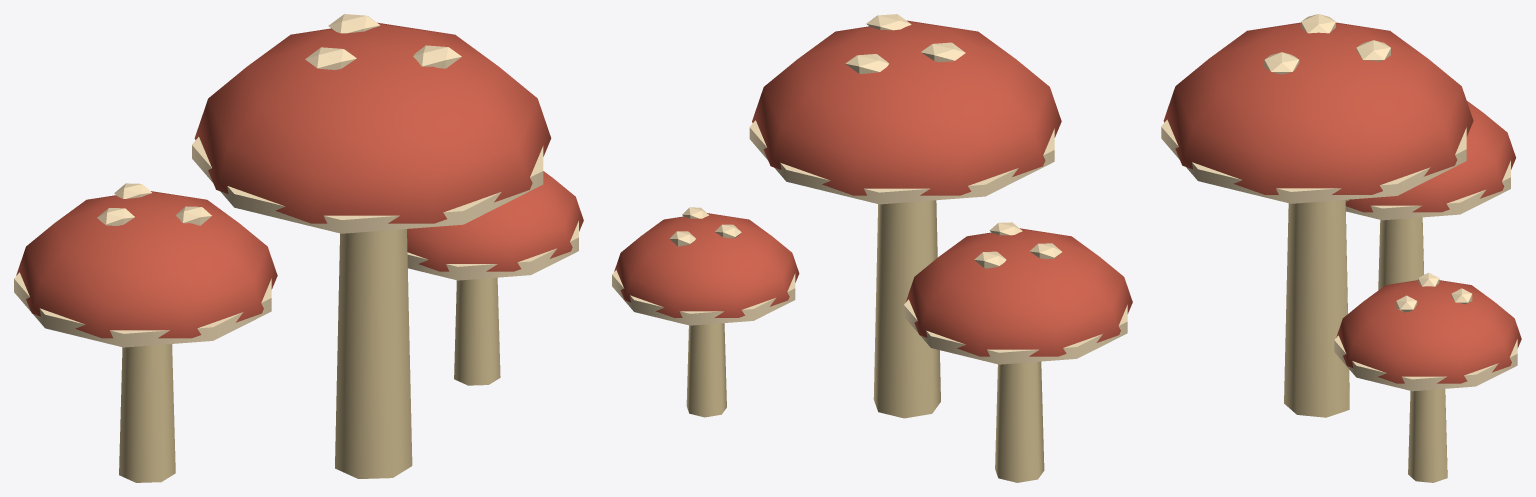
The model's file is mushroom-patch.glb.
3 renders of one model, left to right at view 1: azimuth 30°, elevation 25°; view 2: azimuth 150°, elevation 25°; view 3: azimuth 270°, elevation 25°, orthographic. The views are drawn at different scales.
Visible parts, largest first — view 1: cap-0, cap-1, stem-0, cap-2, stem-1, stem-2, gills-0, gills-1, gills-2, spot-0-0, spot-0-1, spot-0-2; view 2: cap-0, cap-1, cap-2, stem-0, stem-1, stem-2, gills-0, gills-1, gills-2, spot-0-2, spot-0-0; view 3: cap-0, cap-2, stem-0, cap-1, stem-2, gills-0, stem-1, gills-2, gills-1, spot-0-1, spot-0-2, spot-0-0.
Boxes of the visible parts, x1=… form: cap-0: x1=194, y1=22, x2=551, y2=223; cap-1: x1=16, y1=191, x2=277, y2=338; stem-0: x1=335, y1=229, x2=412, y2=478; cap-2: x1=407, y1=171, x2=583, y2=271; stem-1: x1=119, y1=344, x2=175, y2=482; stem-2: x1=454, y1=277, x2=500, y2=385; gills-0: x1=192, y1=137, x2=543, y2=233; gills-1: x1=14, y1=272, x2=271, y2=347; gills-2: x1=407, y1=221, x2=578, y2=280; spot-0-0: x1=305, y1=47, x2=356, y2=69; spot-0-1: x1=413, y1=45, x2=461, y2=68; spot-0-2: x1=328, y1=14, x2=380, y2=33; cap-0: x1=752, y1=20, x2=1061, y2=195; cap-1: x1=905, y1=228, x2=1132, y2=356; cap-2: x1=614, y1=213, x2=799, y2=317; stem-0: x1=873, y1=200, x2=940, y2=418; stem-1: x1=995, y1=361, x2=1044, y2=482; stem-2: x1=686, y1=323, x2=726, y2=417; gills-0: x1=749, y1=120, x2=1054, y2=204; gills-1: x1=904, y1=299, x2=1127, y2=364; gills-2: x1=612, y1=270, x2=795, y2=325; spot-0-2: x1=845, y1=54, x2=888, y2=73; spot-0-0: x1=921, y1=42, x2=965, y2=62; cap-0: x1=1163, y1=22, x2=1473, y2=194; cap-2: x1=1336, y1=280, x2=1521, y2=383; stem-0: x1=1284, y1=200, x2=1349, y2=417; cap-1: x1=1345, y1=101, x2=1515, y2=212; stem-2: x1=1408, y1=389, x2=1447, y2=482; gills-0: x1=1161, y1=119, x2=1466, y2=203; stem-1: x1=1378, y1=217, x2=1424, y2=290; gills-2: x1=1334, y1=335, x2=1517, y2=391; gills-1: x1=1345, y1=160, x2=1510, y2=220; spot-0-1: x1=1264, y1=52, x2=1299, y2=74; spot-0-2: x1=1356, y1=40, x2=1390, y2=61; spot-0-0: x1=1301, y1=14, x2=1335, y2=33.
Size of the model in its own units: 1.06 by 0.7707 by 0.6873.
